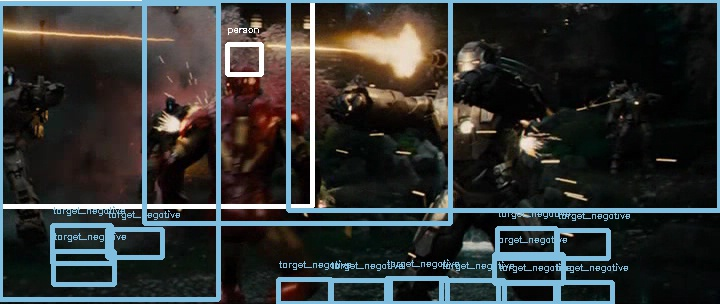person: (222, 60, 264, 99), (221, 60, 263, 99), (223, 60, 265, 99), (222, 59, 264, 98), (222, 61, 264, 100)
target_negative: (411, 75, 602, 235), (514, 90, 645, 241), (212, 232, 376, 255), (679, 96, 716, 191), (454, 281, 559, 298), (118, 292, 405, 298)
